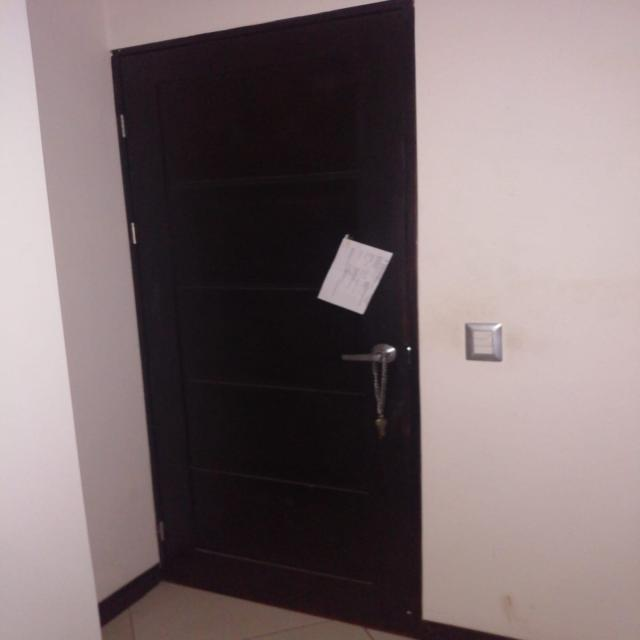ClosedDoor: (113, 0, 430, 640)
